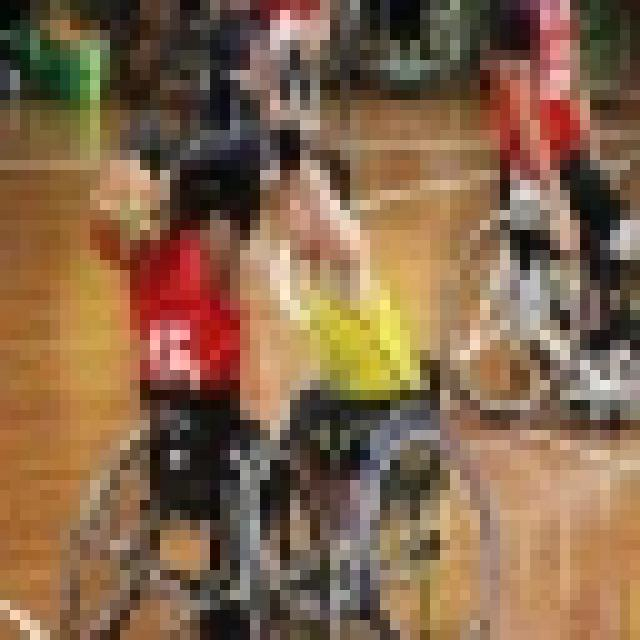wheelchairs: (232, 356, 514, 640), (54, 390, 305, 640), (445, 161, 640, 423)
